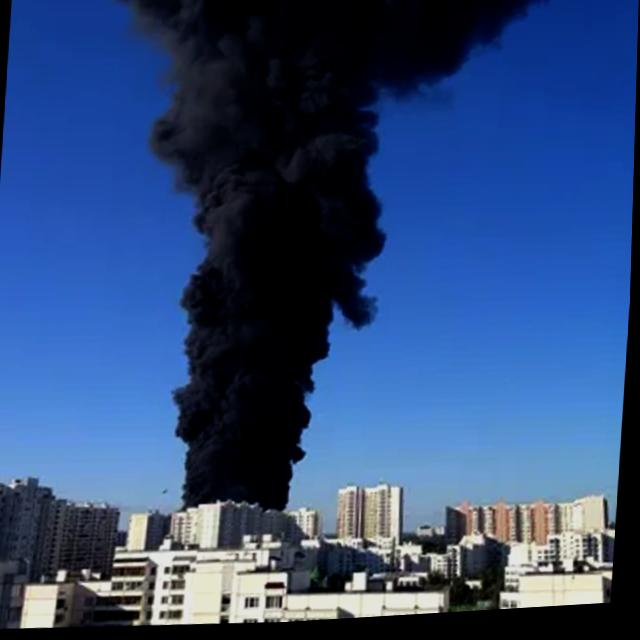Smoke: (87, 0, 568, 527)
